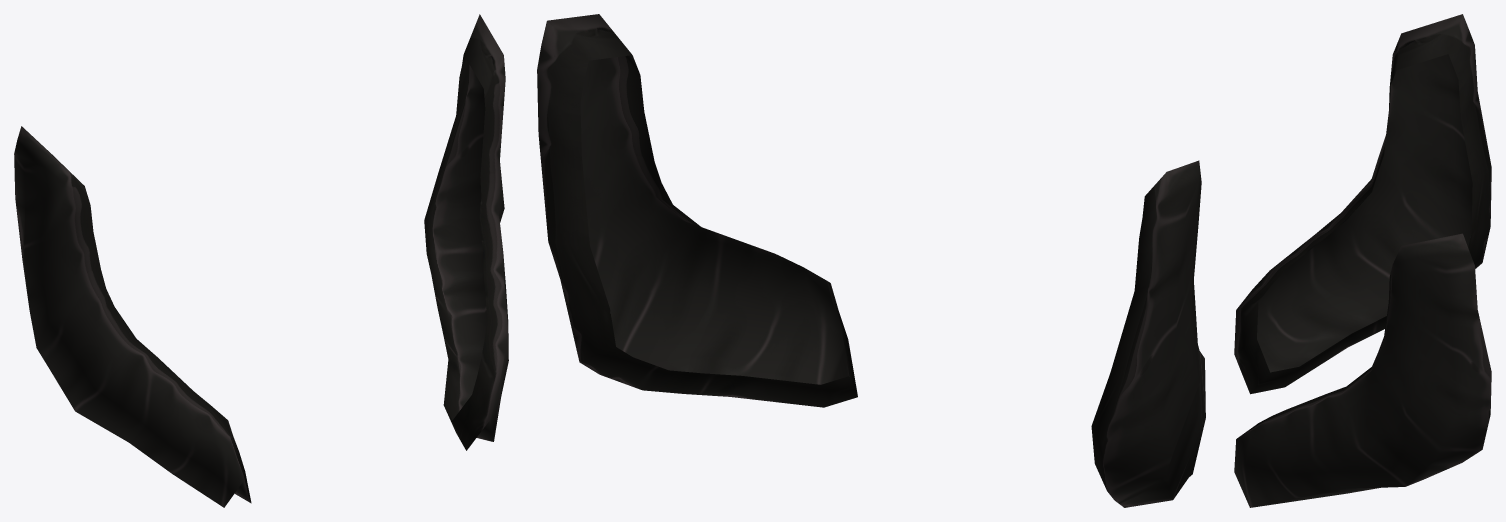
The model's file is beard5.fbx.
The picture shows the model from 3 angles, left to right: view 1: azimuth 30°, elevation 25°; view 2: azimuth 150°, elevation 25°; view 3: azimuth 270°, elevation 25°; orthographic projection. The views are drawn at different scales.
Parts seen in each view (by area): view 1: beard5; view 2: beard5; view 3: beard5.
Part boxes in pixels (x1,y1,x2,y2): beard5: (14, 14, 508, 507); beard5: (537, 14, 1205, 507); beard5: (1234, 14, 1491, 507).
Size of the model in its own units: 14.48 by 9.66 by 7.
